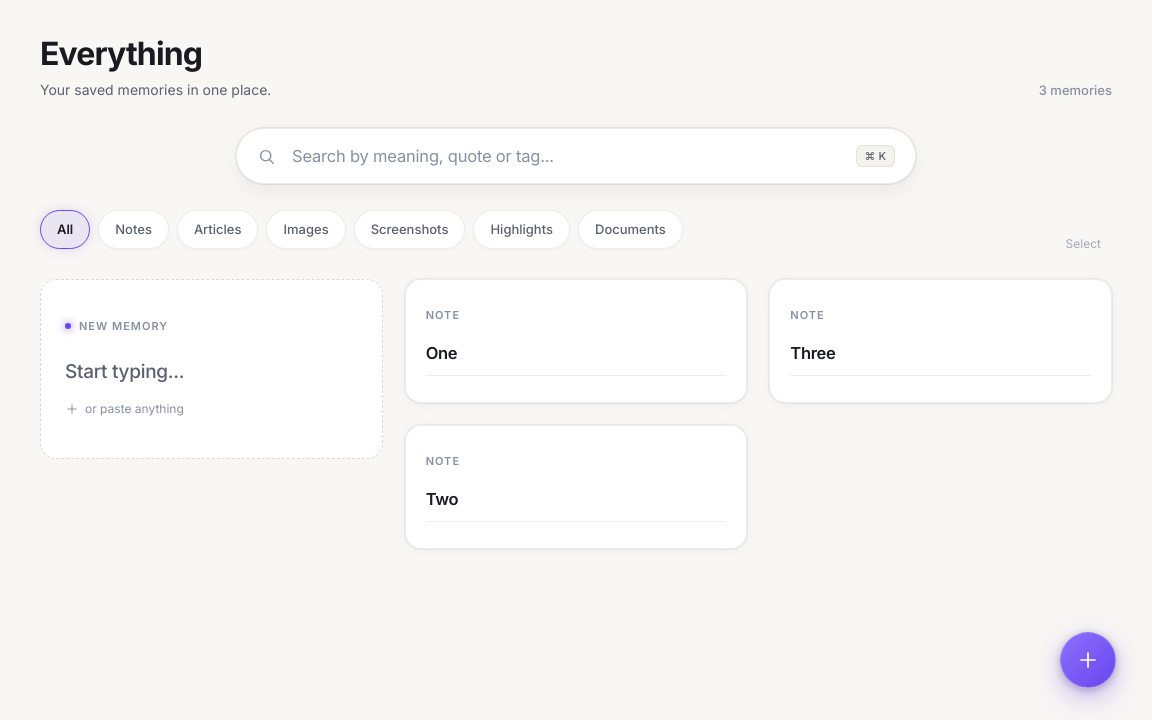
it: multi-select › deselects on a second click and cancels cleanly
Click the button with test id "enter-selection" at (1083, 245), box [1055,229,1112,260]
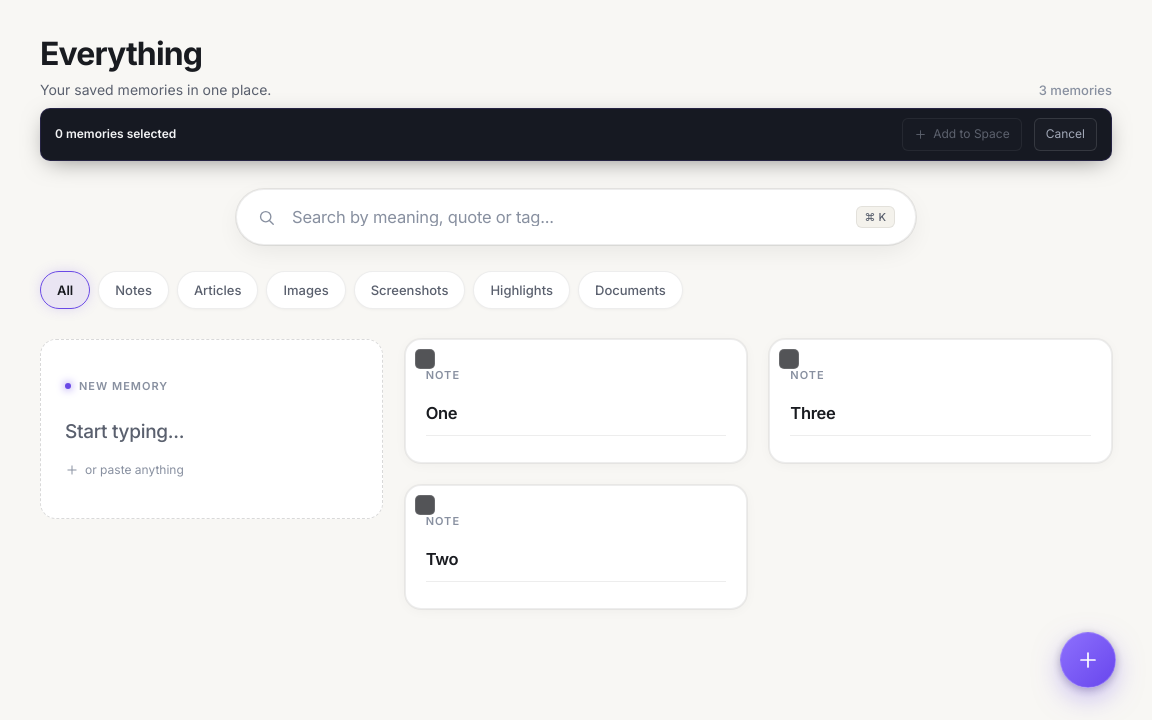
Click the element with test id "item-select-m1" at (425, 359), box [415,349,435,369]
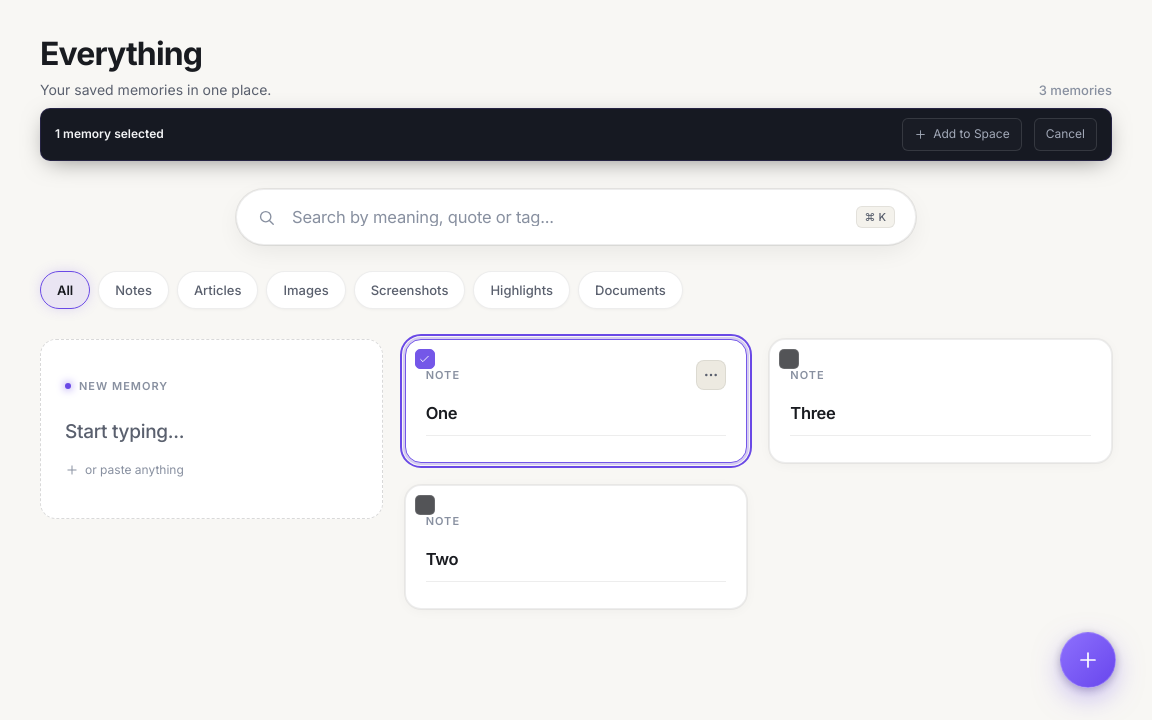
Click the element with test id "item-select-m1" at (425, 359), box [415,349,435,369]
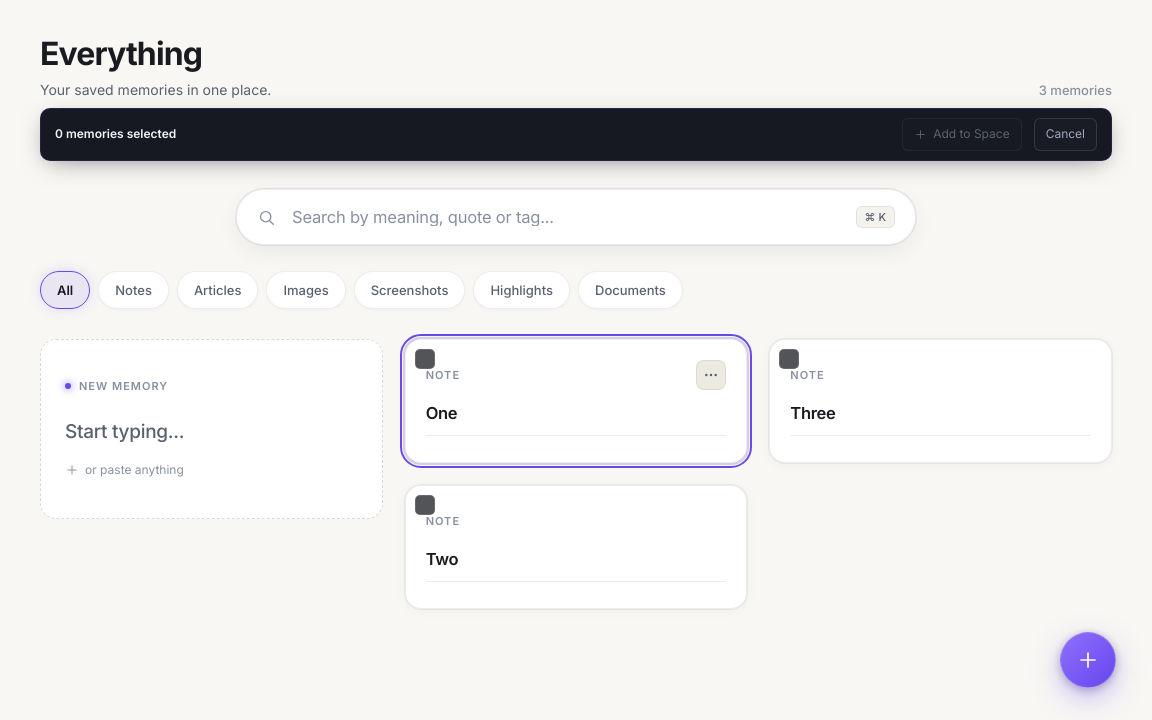
Expected: the text with test id "selection-count" shows "0 memories", [55,126,176,142]
Click the button with test id "selection-cancel" at (1065, 135), box [1034,118,1097,151]
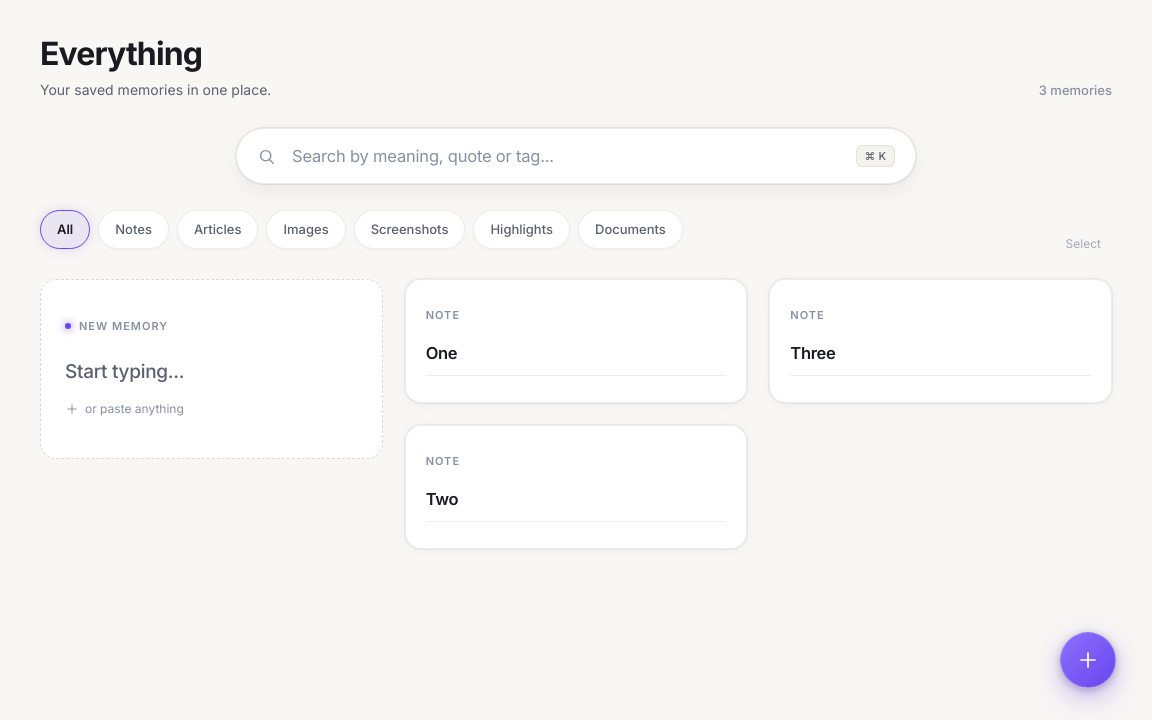
Expected: the element with test id "selection-bar" is gone
